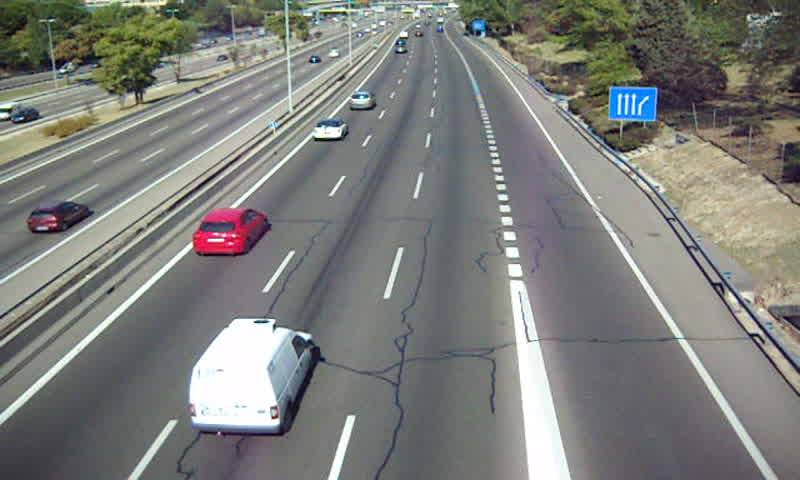car: (192, 210, 266, 255), (312, 119, 348, 142), (349, 90, 376, 111)
van: (191, 317, 314, 433)
